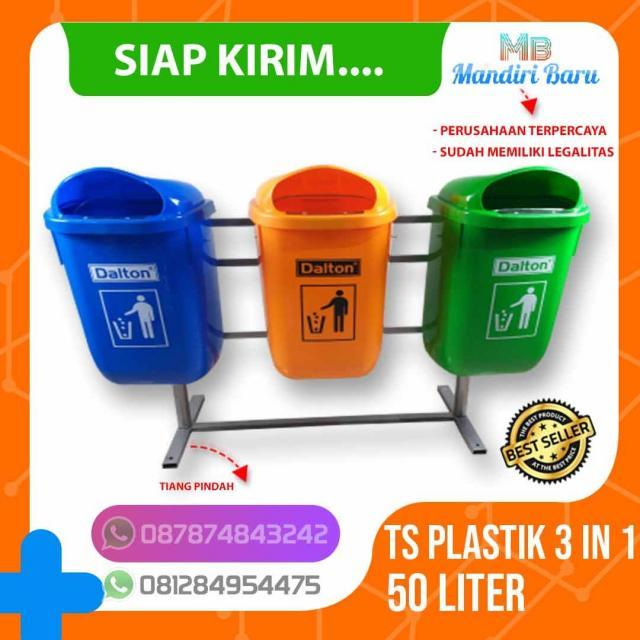Dumpster: (45, 160, 228, 391), (422, 164, 588, 378), (249, 161, 396, 378)
